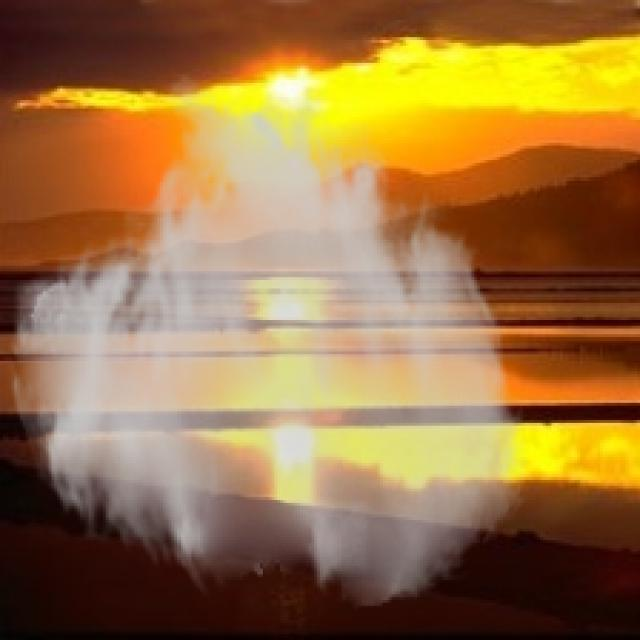Smoke: (6, 71, 532, 612)
